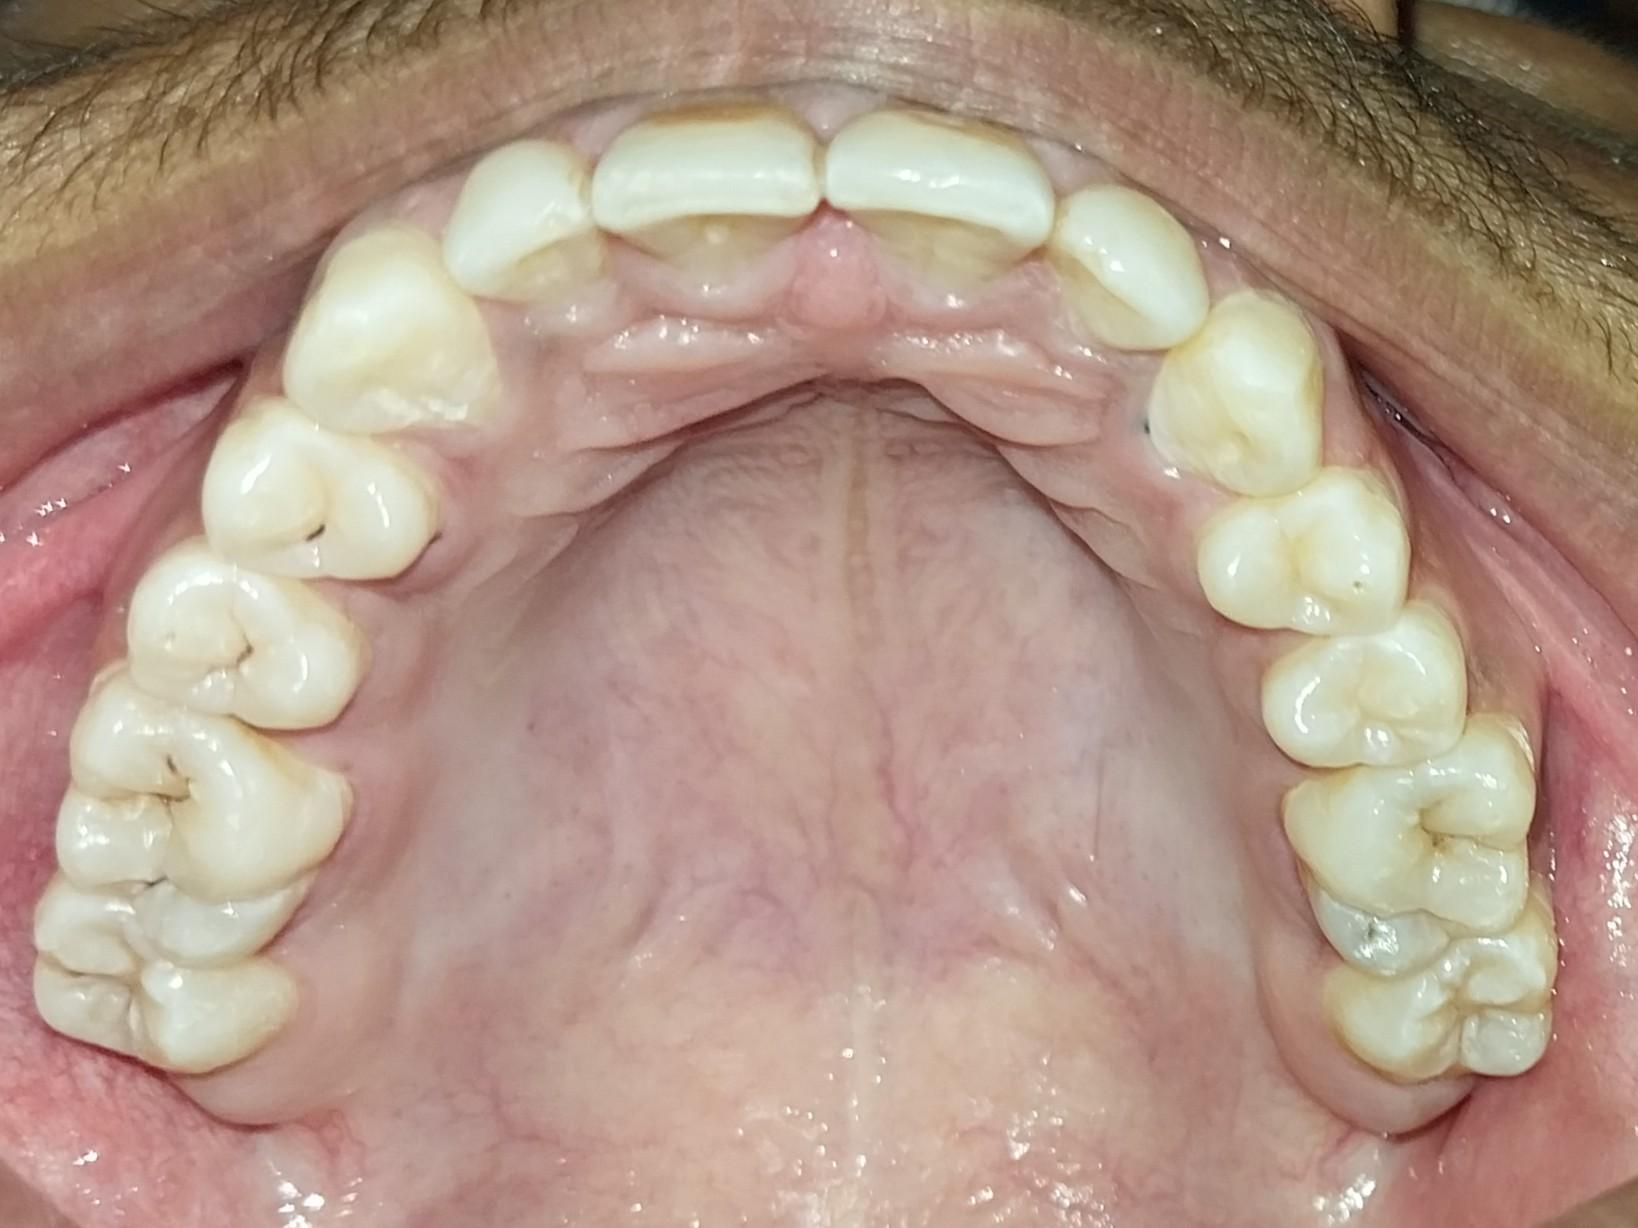D: (54, 674, 346, 972), (123, 545, 366, 734), (200, 403, 435, 588)
